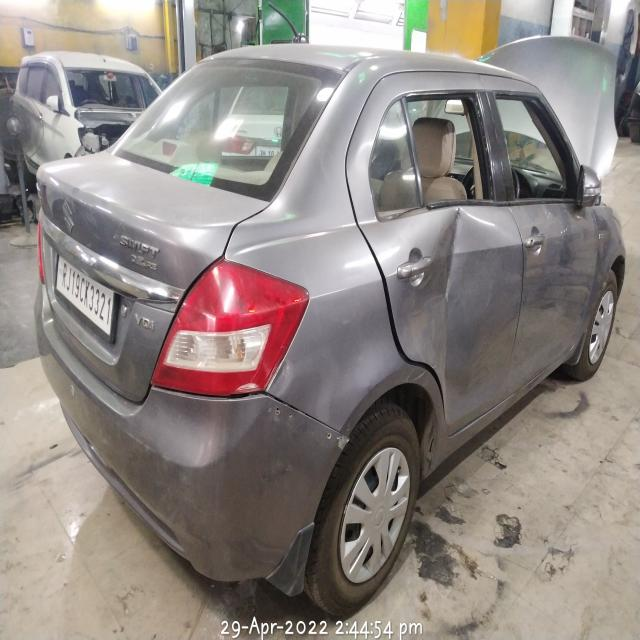damage: (402, 209, 499, 382), (260, 398, 349, 456), (270, 357, 295, 399)
